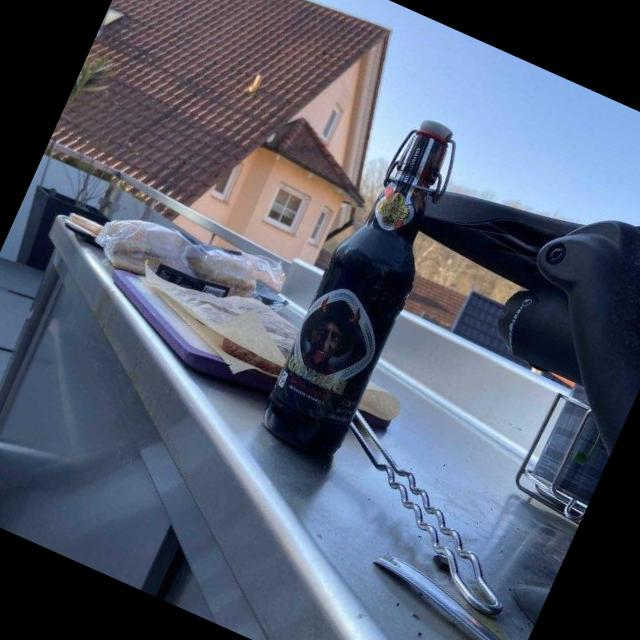BotolKaca: (252, 102, 482, 468)
